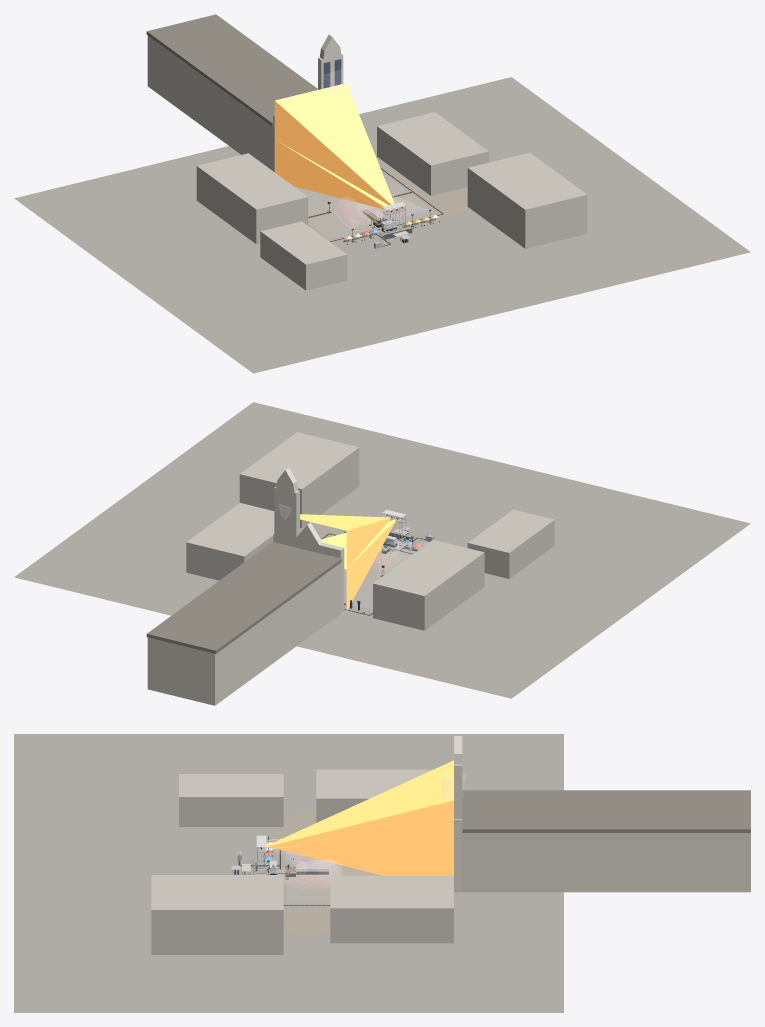
Rendered from Implantation.glb.
The picture shows the model from 3 angles, top to bottom: view 1: azimuth 30°, elevation 25°; view 2: azimuth 150°, elevation 25°; view 3: azimuth 270°, elevation 25°; orthographic projection. The views are drawn at different scales.
Parts seen in each view (by area): view 1: Sol, Nef, Voisin_4_fond_est, ConeVP_2, Voisin_1_bâti_ouest, Voisin_2_bâti_est, Voisin_3_fond_ouest, ConeVP_1, ZonePublic, Sono_Couverture, Facade; view 2: Sol, Nef, Voisin_1_bâti_ouest, Voisin_4_fond_est, Voisin_2_bâti_est, Voisin_3_fond_ouest, Facade, ConeVP_2, ConeVP_1, ZonePublic, Sono_Couverture; view 3: Sol, Nef, Voisin_4_fond_est, ConeVP_2, Voisin_2_bâti_est, Voisin_3_fond_ouest, ConeVP_1, Voisin_1_bâti_ouest, Facade, ZonePublic, Sono_Couverture.
Part boxes in pixels (x1,y1,x2,y2): Sol: (14, 77, 750, 373); Nef: (146, 14, 317, 170); Voisin_4_fond_est: (467, 152, 587, 248); ConeVP_2: (274, 83, 396, 209); Voisin_1_bâti_ouest: (196, 153, 308, 244); Voisin_2_bâti_est: (377, 112, 488, 195); Voisin_3_fond_ouest: (260, 221, 347, 290); ConeVP_1: (274, 139, 391, 210); ZonePublic: (295, 174, 436, 238); Sono_Couverture: (308, 191, 419, 228); Facade: (273, 34, 343, 171); Sol: (14, 402, 750, 698); Nef: (146, 542, 341, 705); Voisin_1_bâti_ouest: (373, 540, 484, 630); Voisin_4_fond_est: (239, 432, 359, 528); Voisin_2_bâti_est: (186, 503, 274, 580); Voisin_3_fond_ouest: (467, 509, 554, 578); Facade: (273, 467, 344, 613); ConeVP_2: (300, 514, 391, 568); ConeVP_1: (321, 519, 396, 610); ZonePublic: (344, 553, 408, 609); Sono_Couverture: (344, 552, 403, 585); Sol: (14, 734, 563, 1012); Nef: (462, 790, 750, 892); Voisin_4_fond_est: (151, 875, 283, 954); ConeVP_2: (262, 760, 453, 848); Voisin_2_bâti_est: (330, 875, 453, 943); Voisin_3_fond_ouest: (179, 774, 283, 826); ConeVP_1: (266, 842, 453, 875); Voisin_1_bâti_ouest: (316, 769, 432, 822); Facade: (454, 736, 462, 892); ZonePublic: (287, 852, 376, 902); Sono_Couverture: (283, 856, 379, 902).
Bounding box in the file's own units: 240 × 65.52 × 268.
27 materials, 20 textured.
